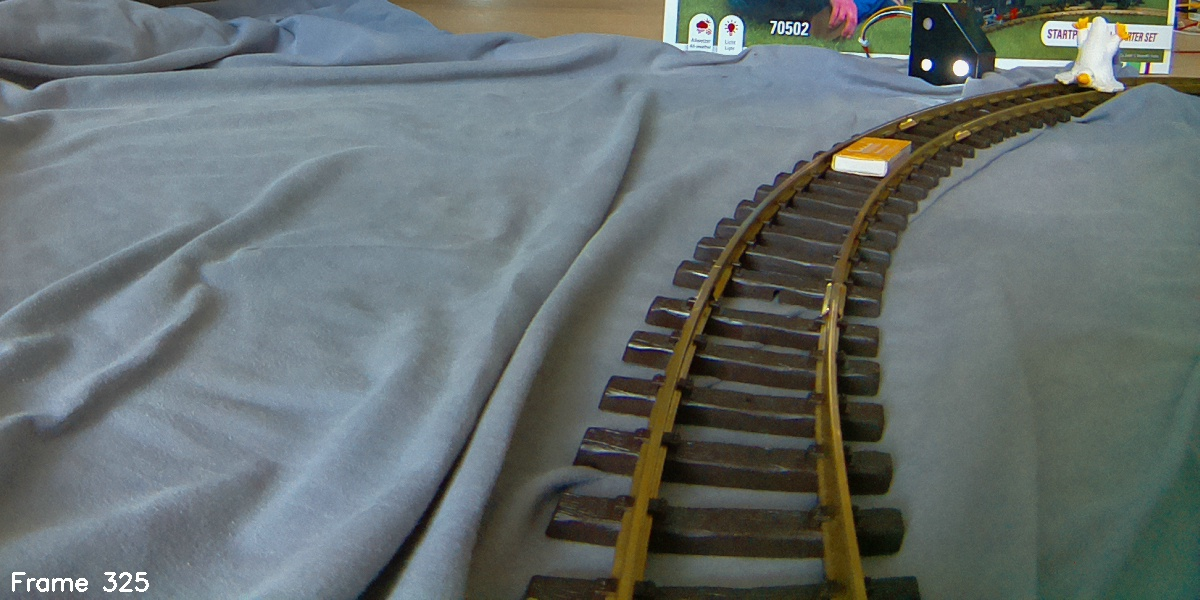Halt: (908, 1, 992, 86)
